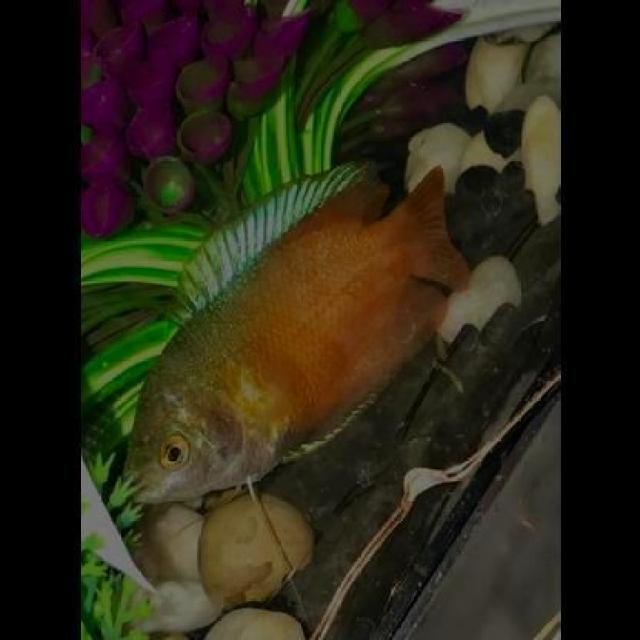Gourami: (116, 158, 487, 522)
